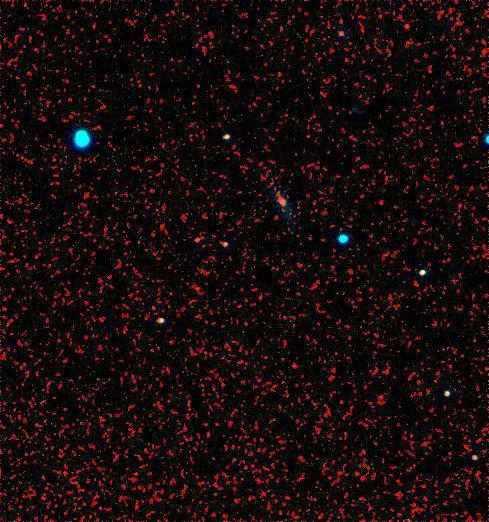star: (391, 12, 421, 42)
